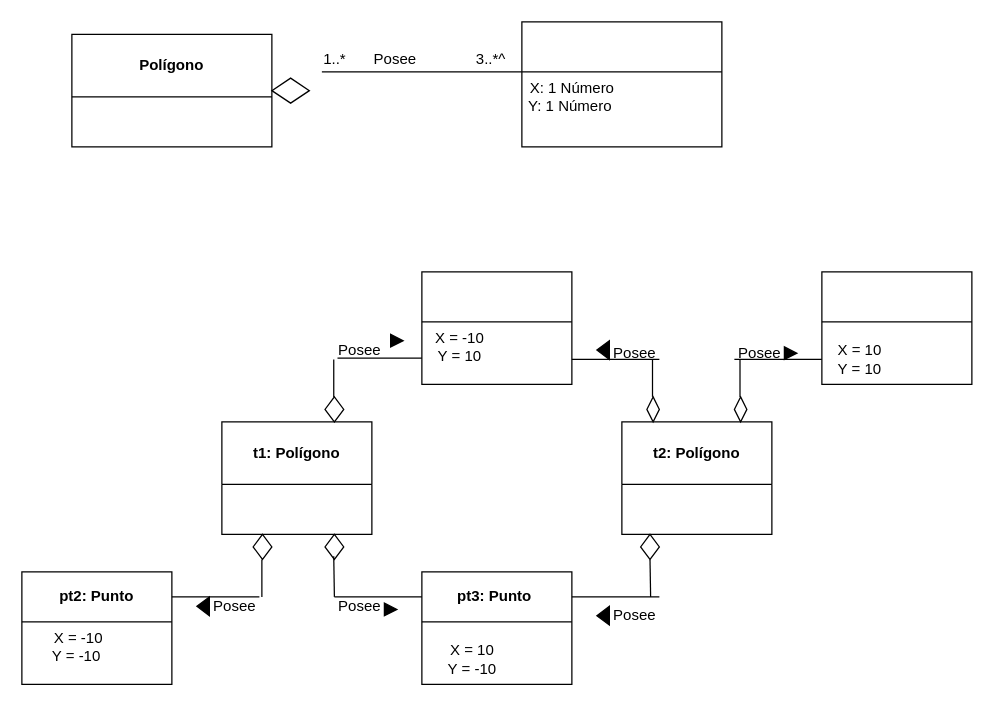
Image size: 994x706. Some labels were removed from this diagram. Here are the shapes that lost their labels. From the top down, the box of each, then its label:
(521, 21, 722, 147): Punto
(421, 271, 572, 384): pt1: Punto
(821, 271, 972, 384): pt5: Punto
